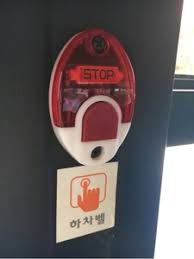bell: (46, 26, 136, 165)
